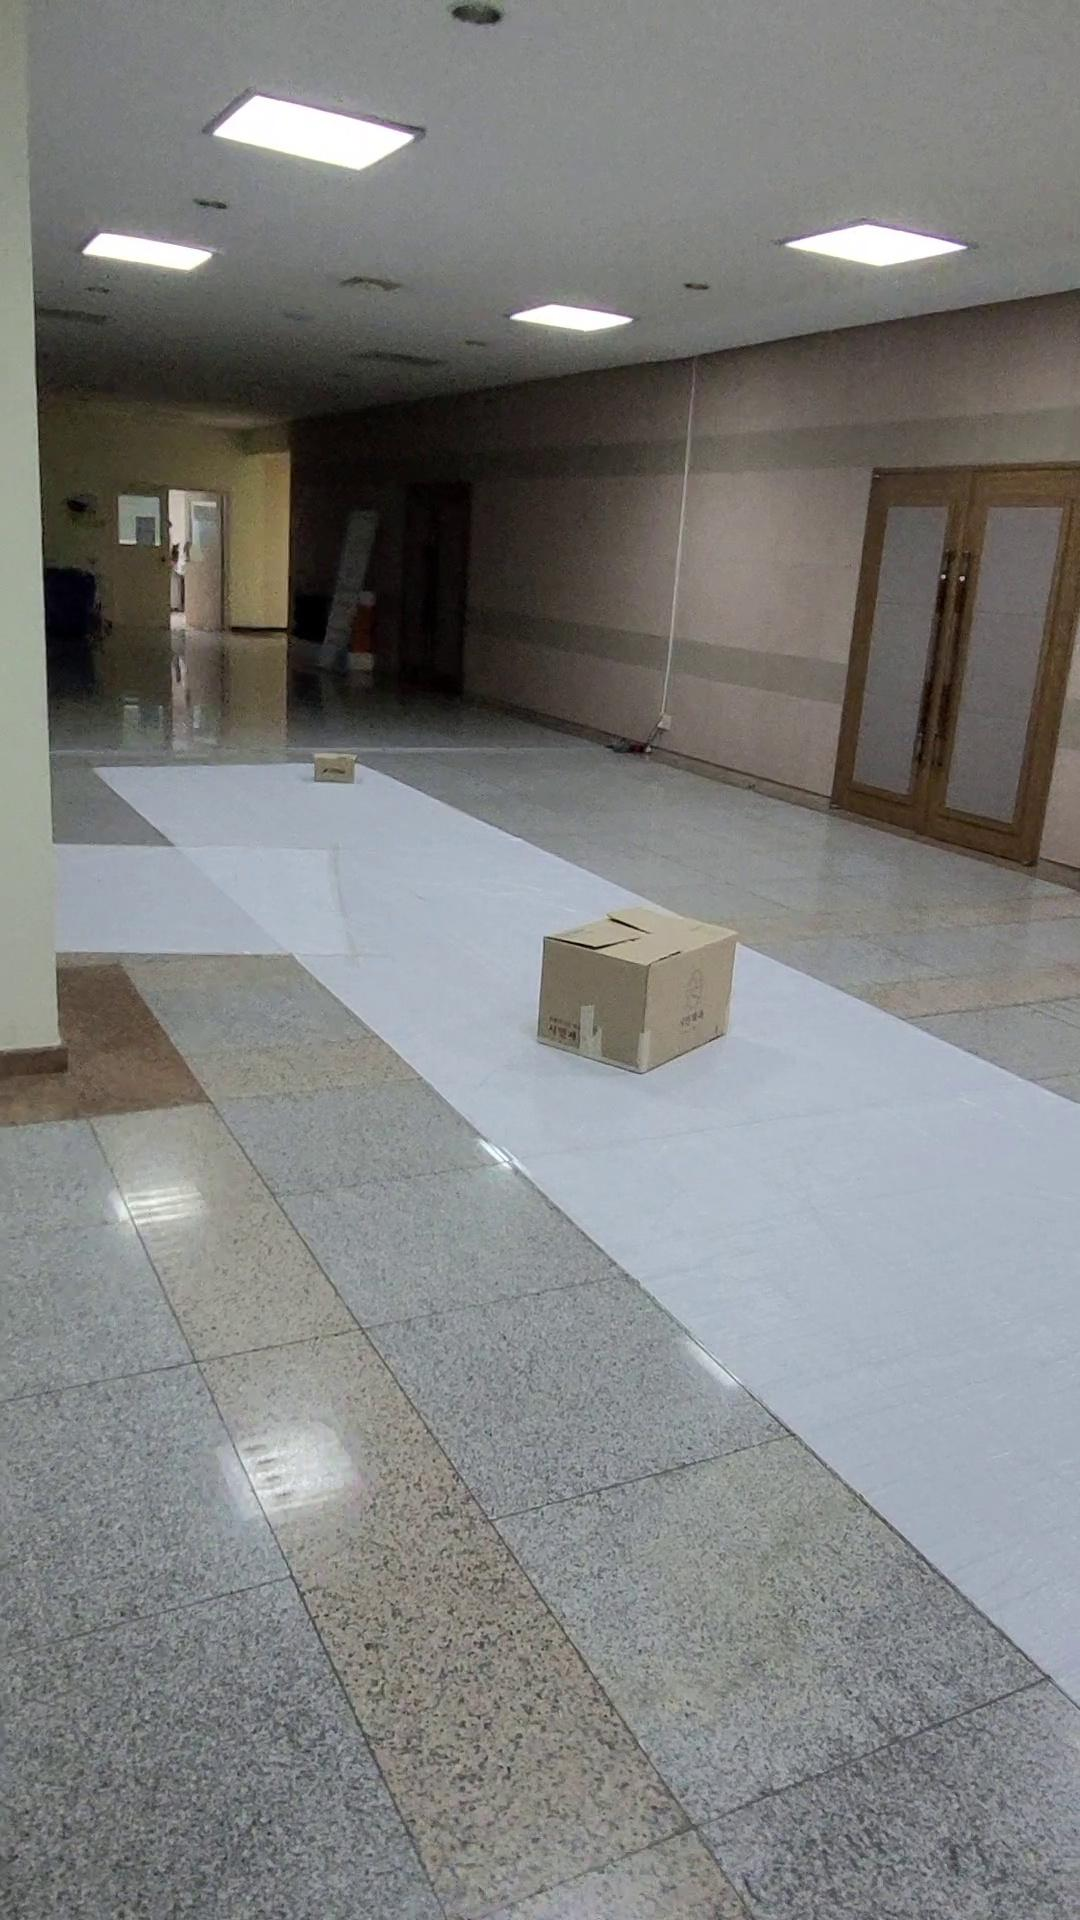Box: (516, 903, 760, 1075), (301, 738, 368, 798)
